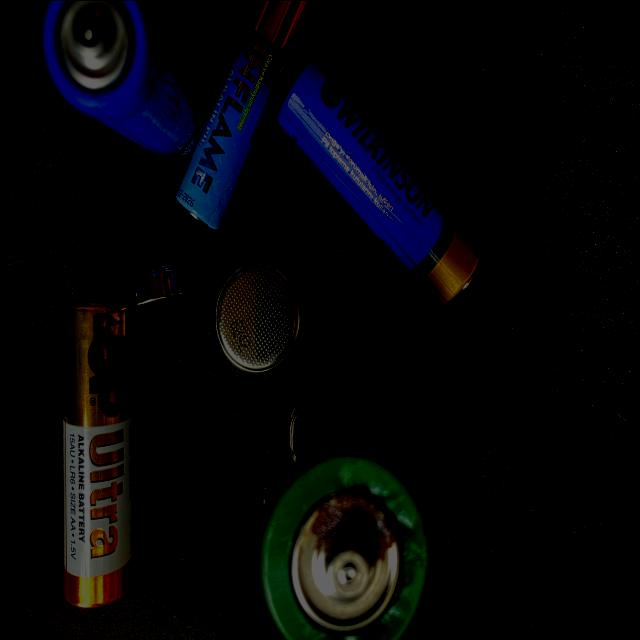AA: (270, 46, 487, 308), (171, 0, 319, 233), (39, 0, 209, 160), (59, 290, 136, 613)
COIN: (213, 256, 305, 376)
